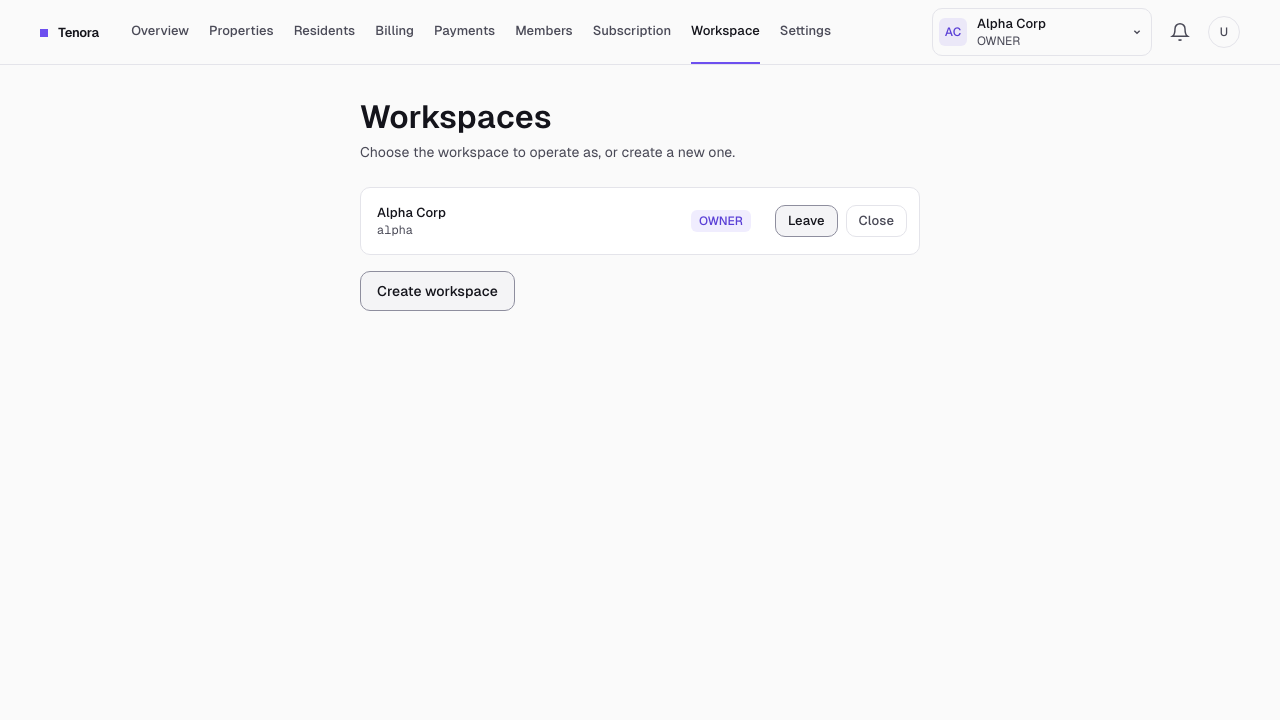
Test: WorkspacePage › creates a workspace, selects it, and enters the app
Click the button "Create workspace" at (437, 291), box [360, 271, 515, 311]
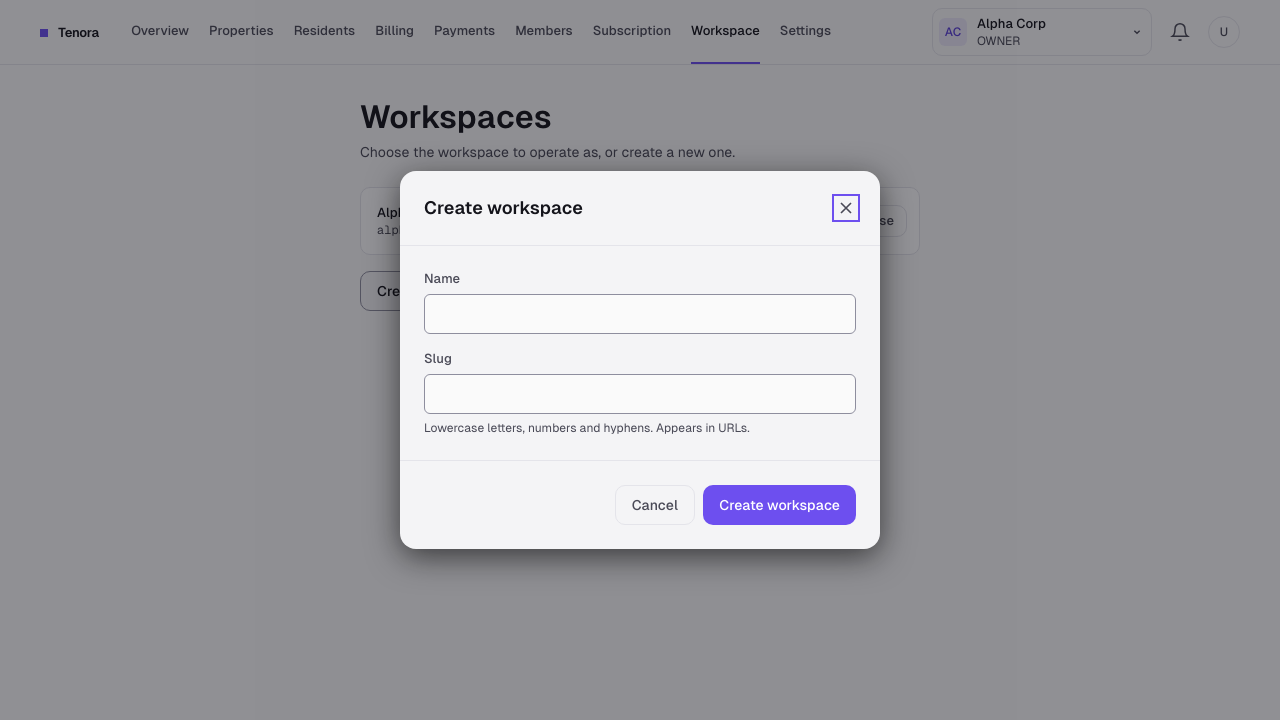
Type "Gamma Inc" into the field labelled "Name" at (640, 314), box [424, 294, 856, 334]
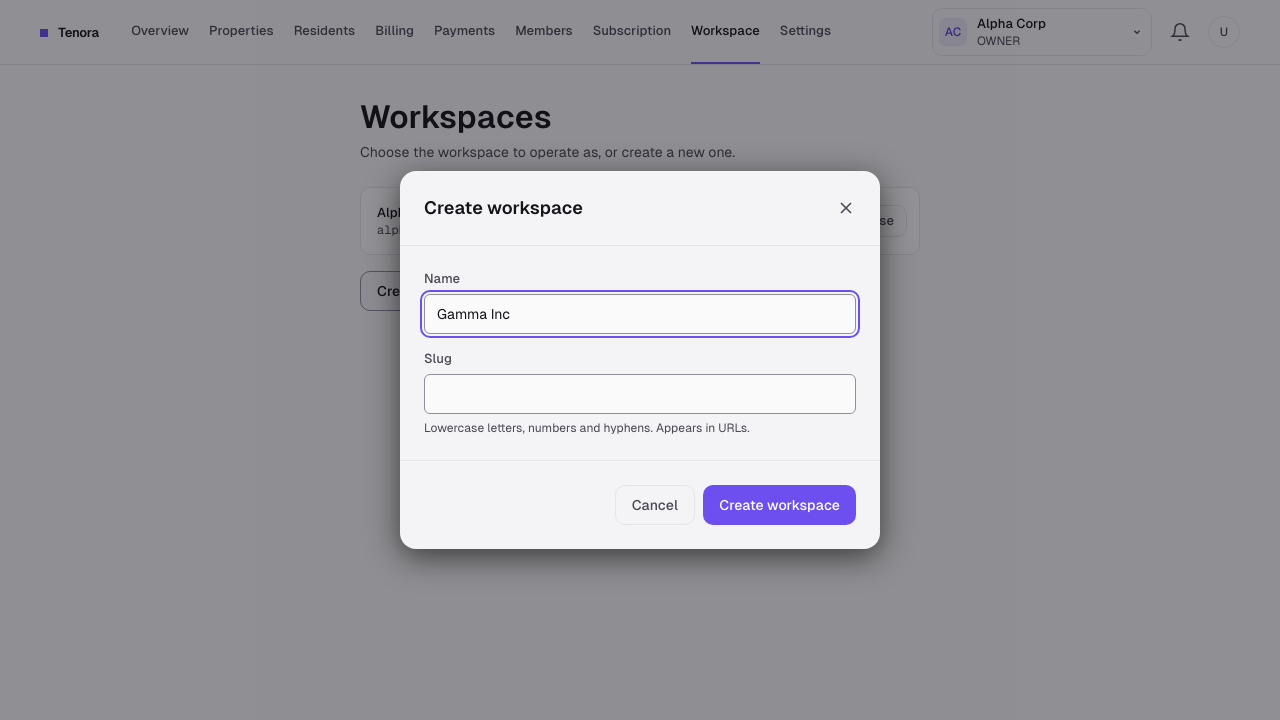
Type "gamma" into the field labelled "Slug" at (640, 394), box [424, 374, 856, 414]
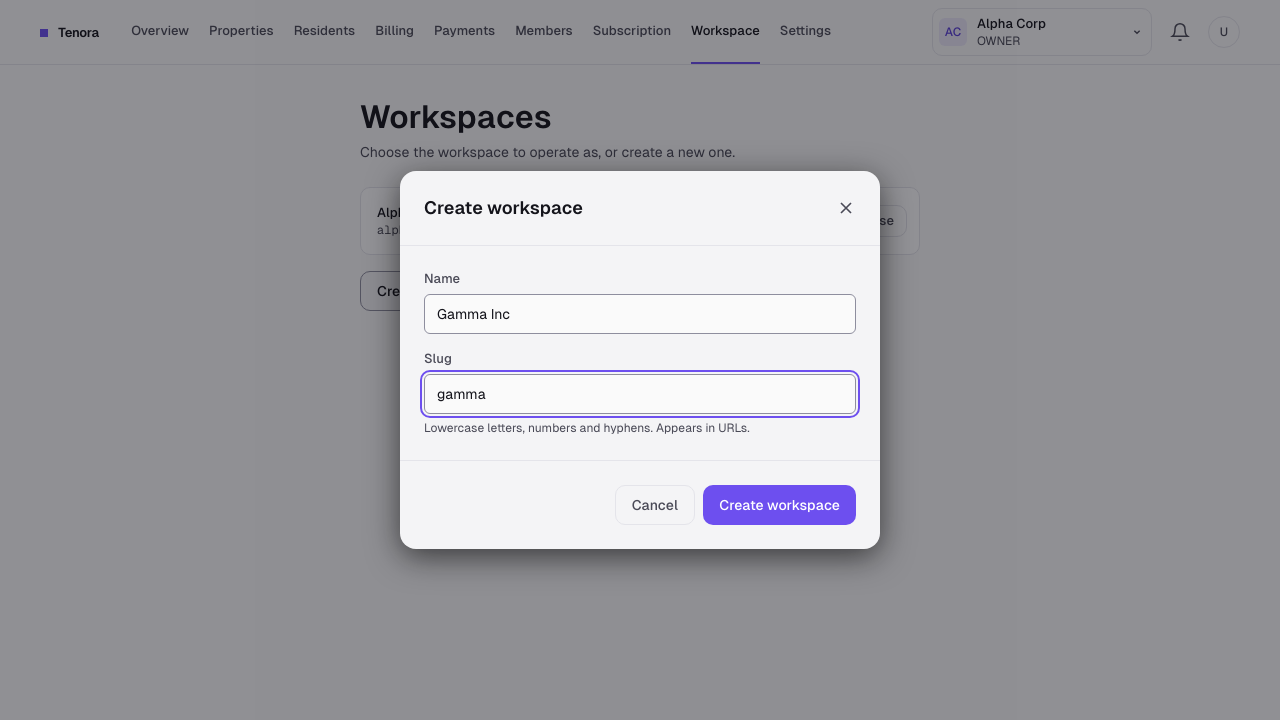
Click the button "Create workspace" at (780, 505), box [703, 485, 856, 525]
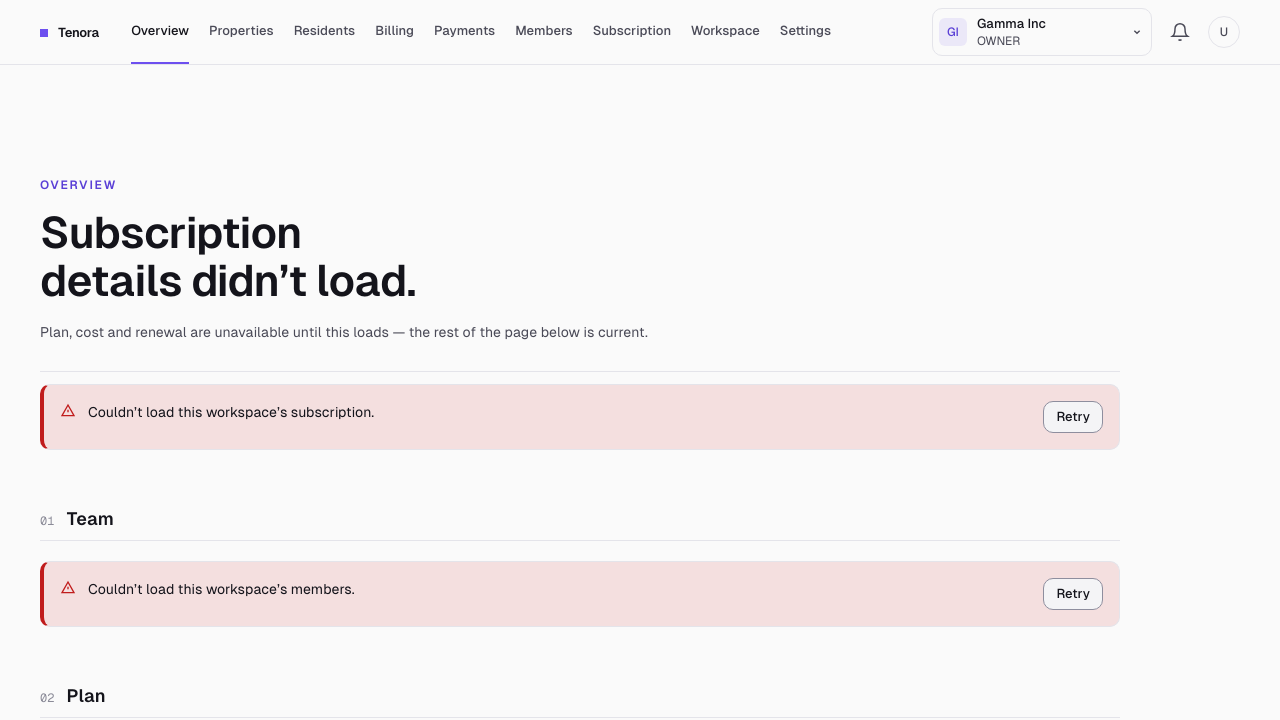
Now the heading "01 Team" is shown, box [40, 506, 114, 532]
